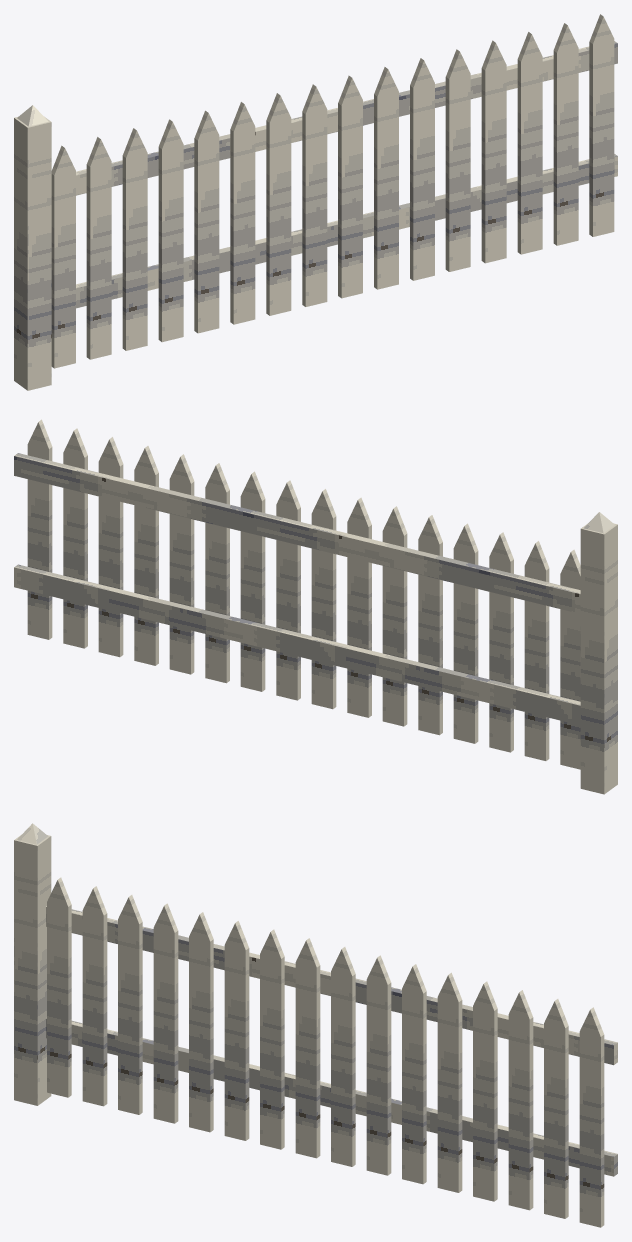
The model's file is FN_Picket_2.5m.obj.
3 views of the same model, one above another, from view 1: azimuth 30°, elevation 25°; view 2: azimuth 150°, elevation 25°; view 3: azimuth 330°, elevation 25° (orthographic).
Parts seen in each view (by area): view 1: FN_Picket_2.5m; view 2: FN_Picket_2.5m; view 3: FN_Picket_2.5m.
Boxes of the visible parts, box(x1,y1,x2,y2) form: FN_Picket_2.5m: box(14, 14, 617, 390); FN_Picket_2.5m: box(14, 419, 617, 794); FN_Picket_2.5m: box(14, 823, 617, 1227).
Bounding box in the file's own units: 2.5 × 1.11 × 0.1.
1 material, 1 textured.
